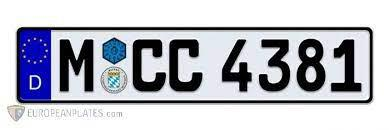1: (330, 36, 363, 94)
3: (257, 38, 293, 92)
4: (219, 37, 257, 94)
8: (296, 37, 327, 93)
C: (167, 37, 205, 94), (130, 37, 167, 93)
M: (55, 37, 97, 94)
